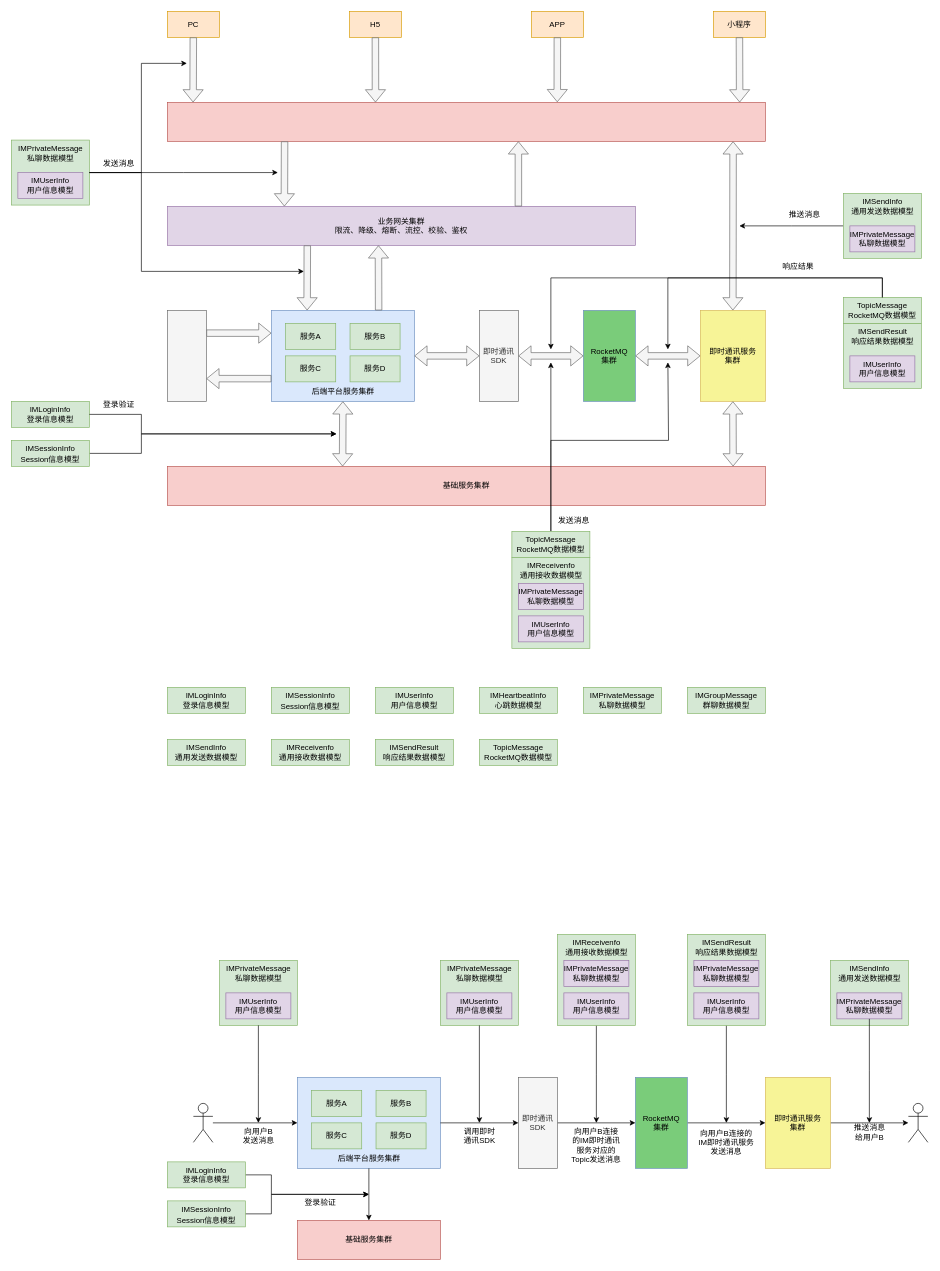
This 940x1271 diagram has some shape labels left out. The centre of each missing label's shape, as x and y in pixels:
"Kong/OpenResty/Nginx 反向代理+负载均衡+限流+黑白名单+流量控制+业务校验" goes at pixel 466 121.
"OpenAl SDK" goes at pixel 186 355.
"用户A" goes at pixel 203 1122.
"用户B" goes at pixel 918 1122.
